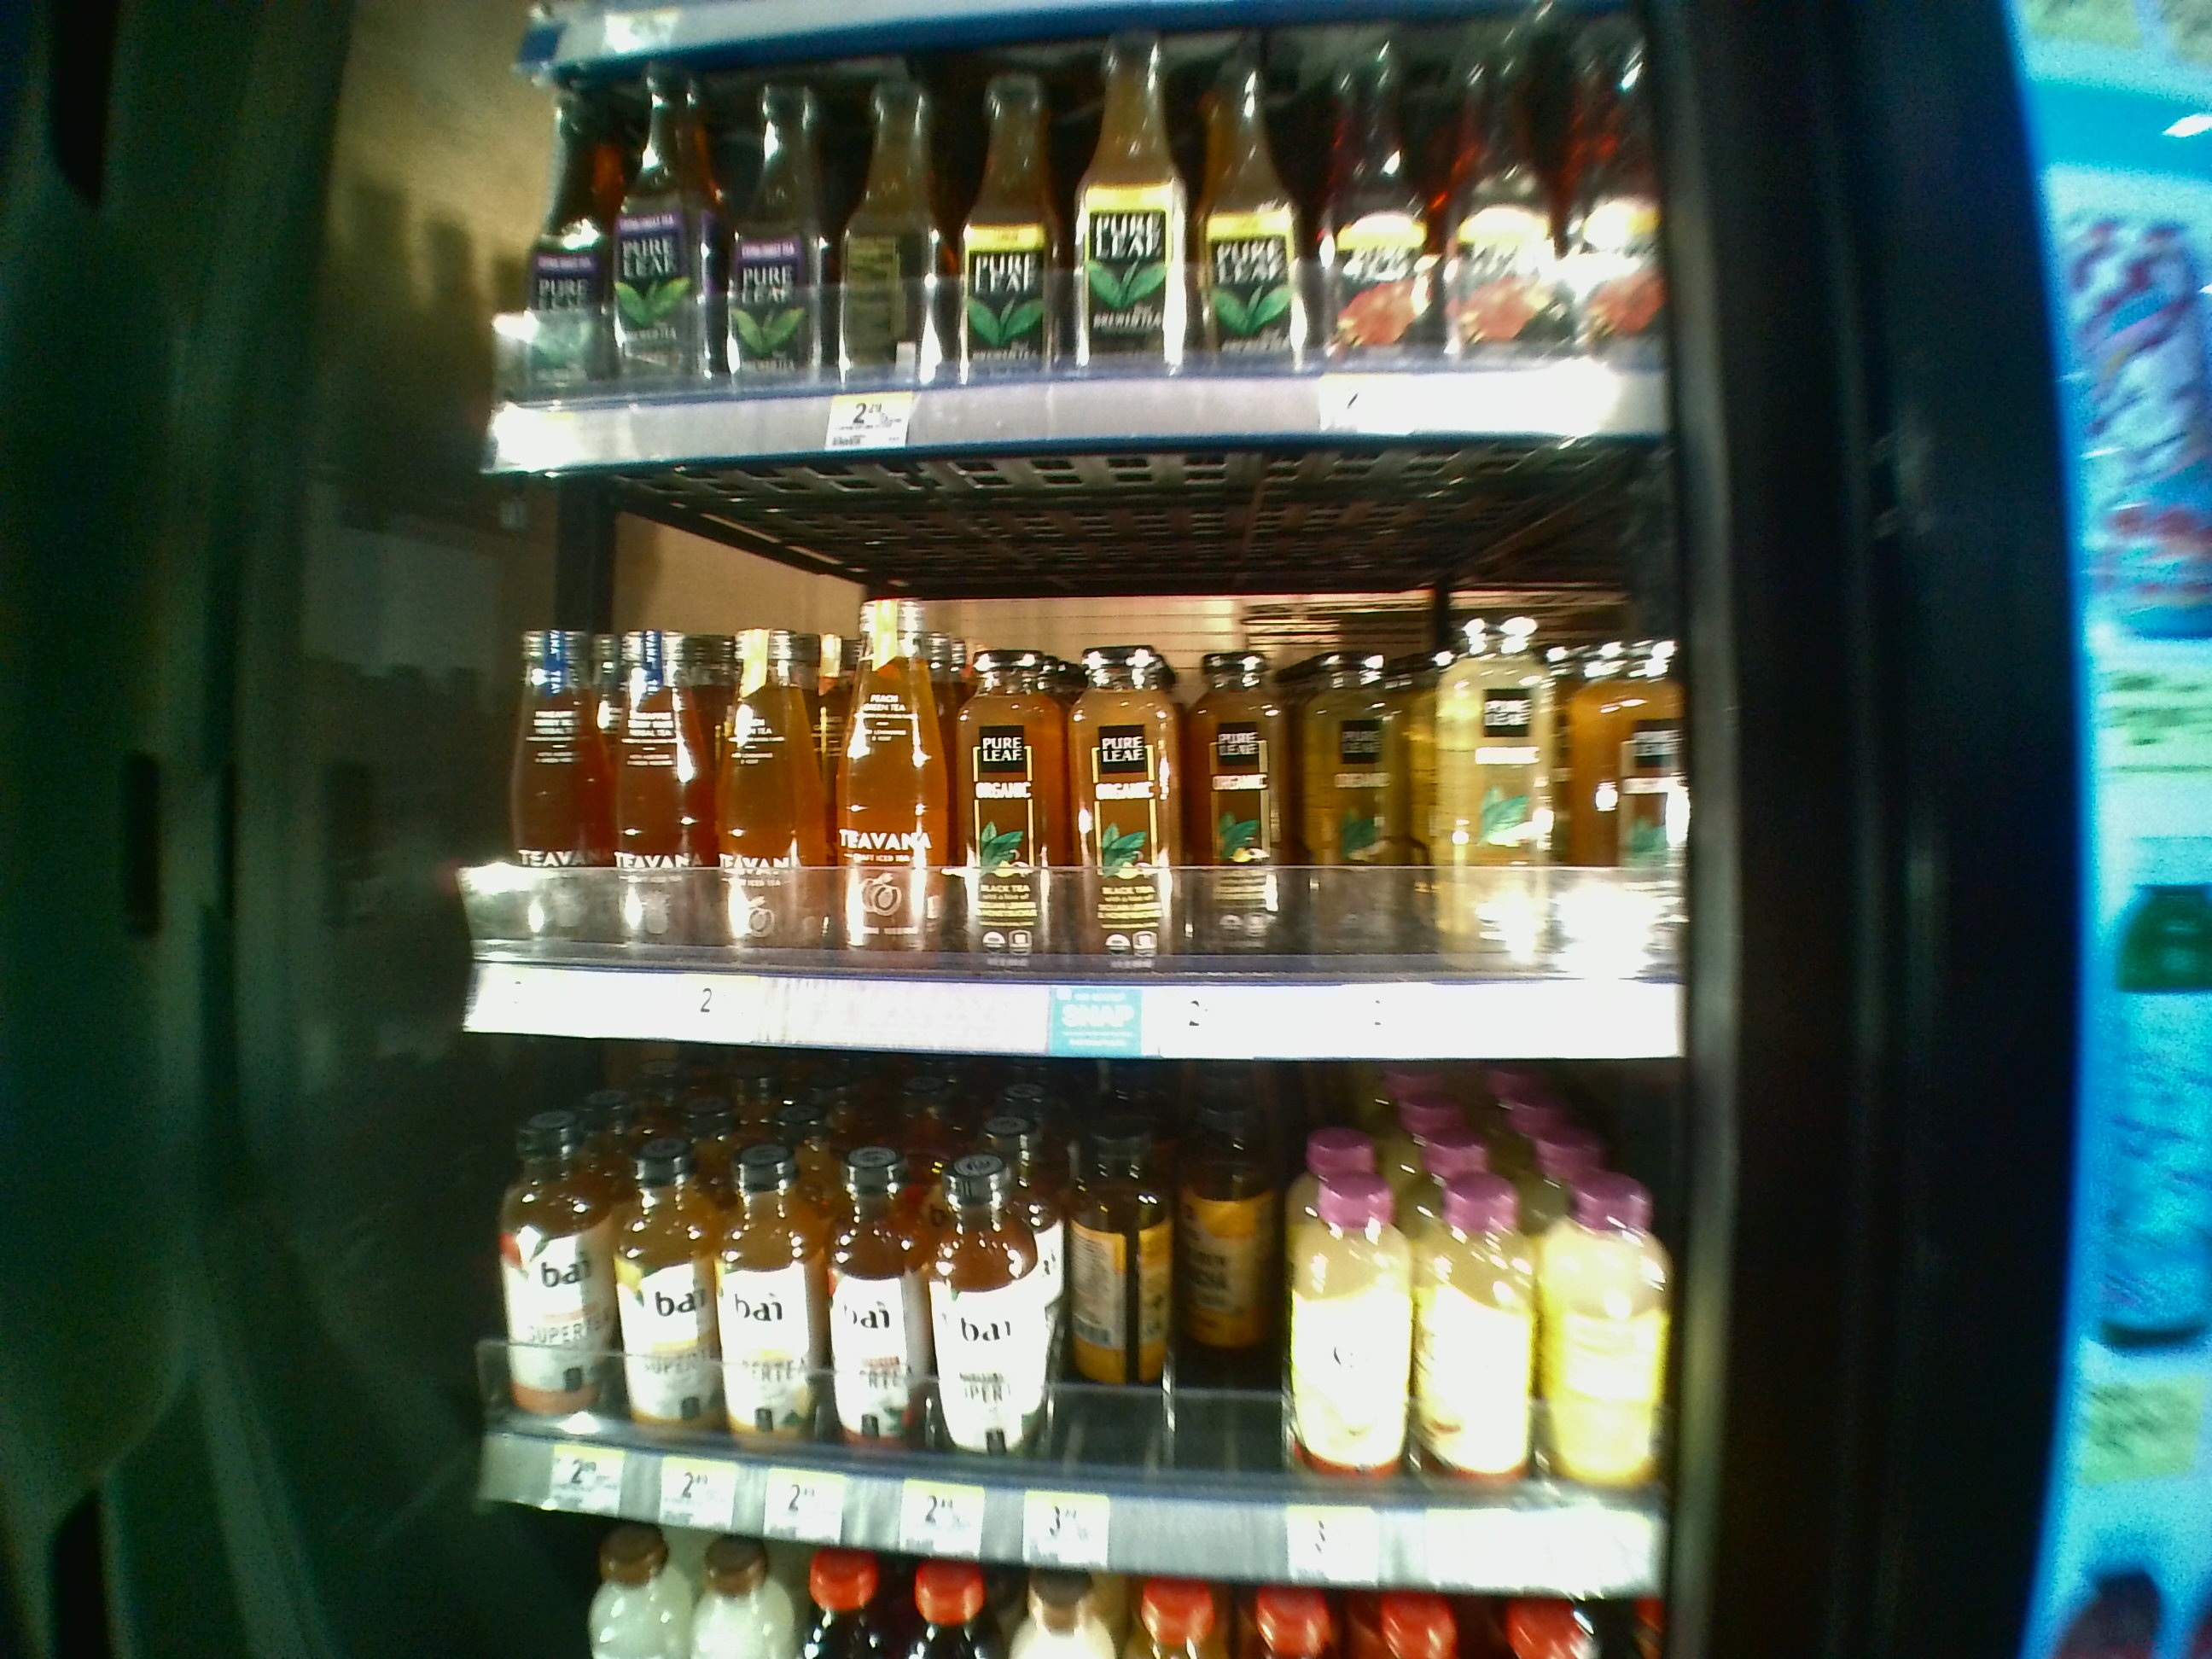shelf: (455, 483, 1689, 1054), (462, 1068, 1684, 1624), (481, 91, 1676, 472)
